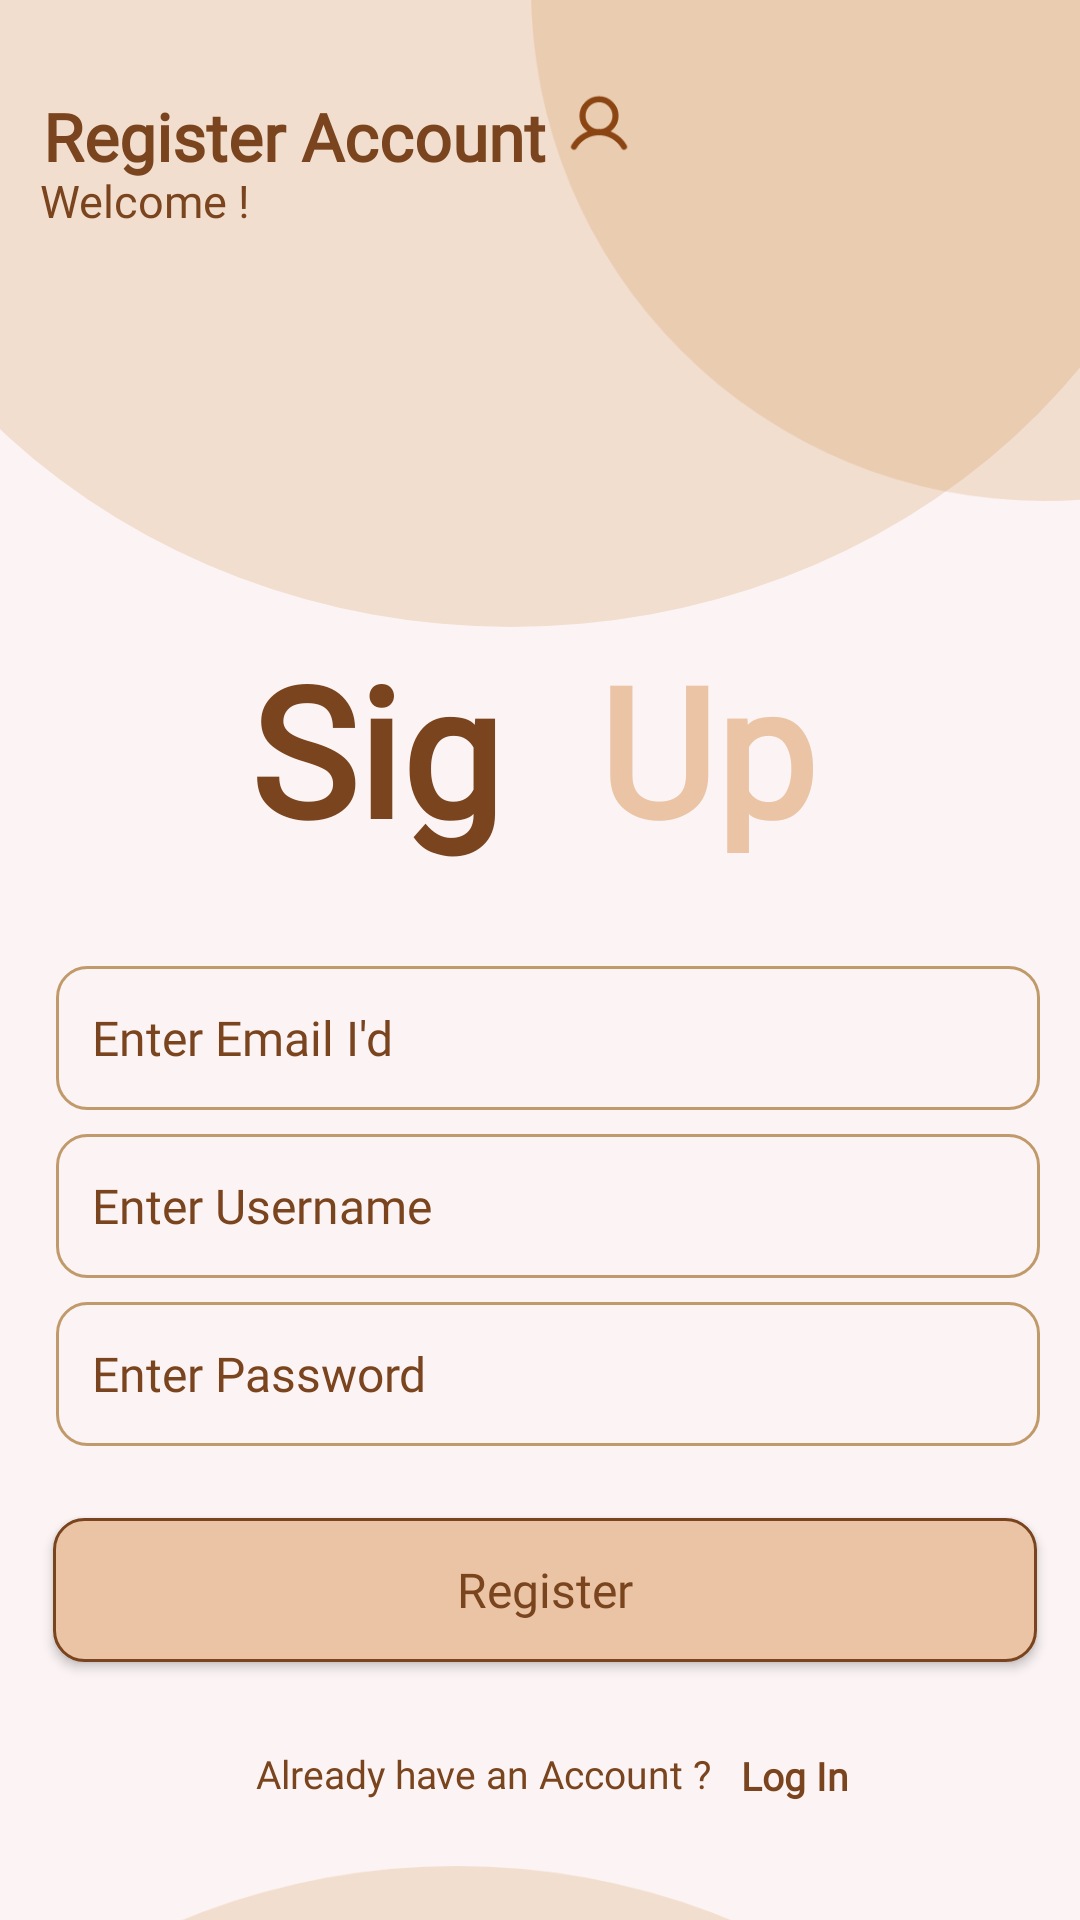

Where icons sit on this 1080×1920 app screen, as bbox(x1, y1, x2, y2):
user: bbox(570, 96, 628, 150)
